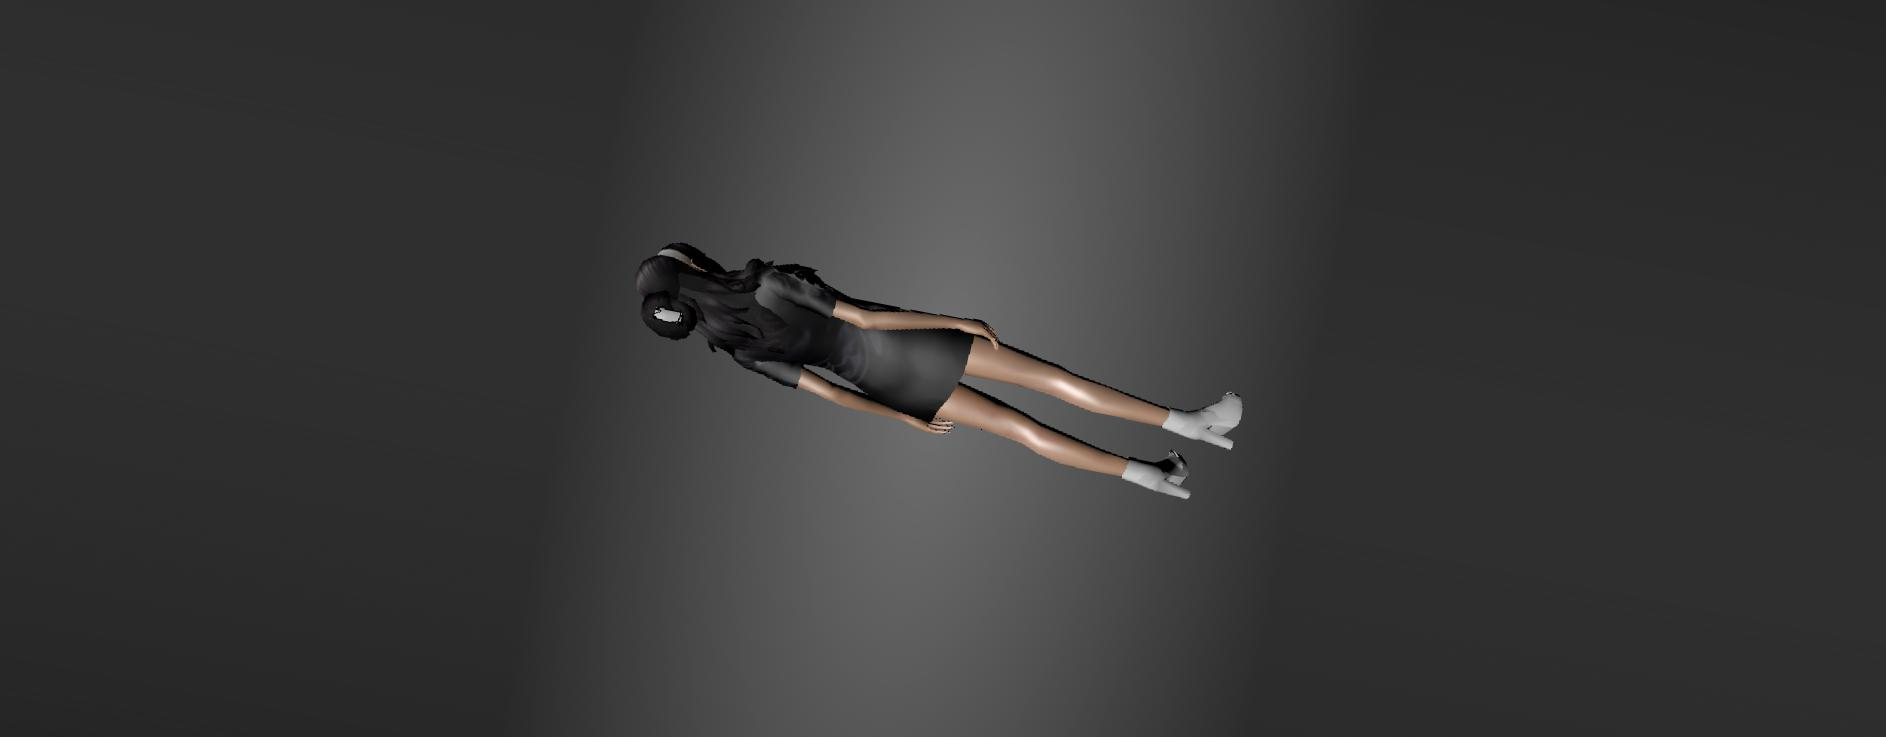clip: (648, 303, 687, 332)
